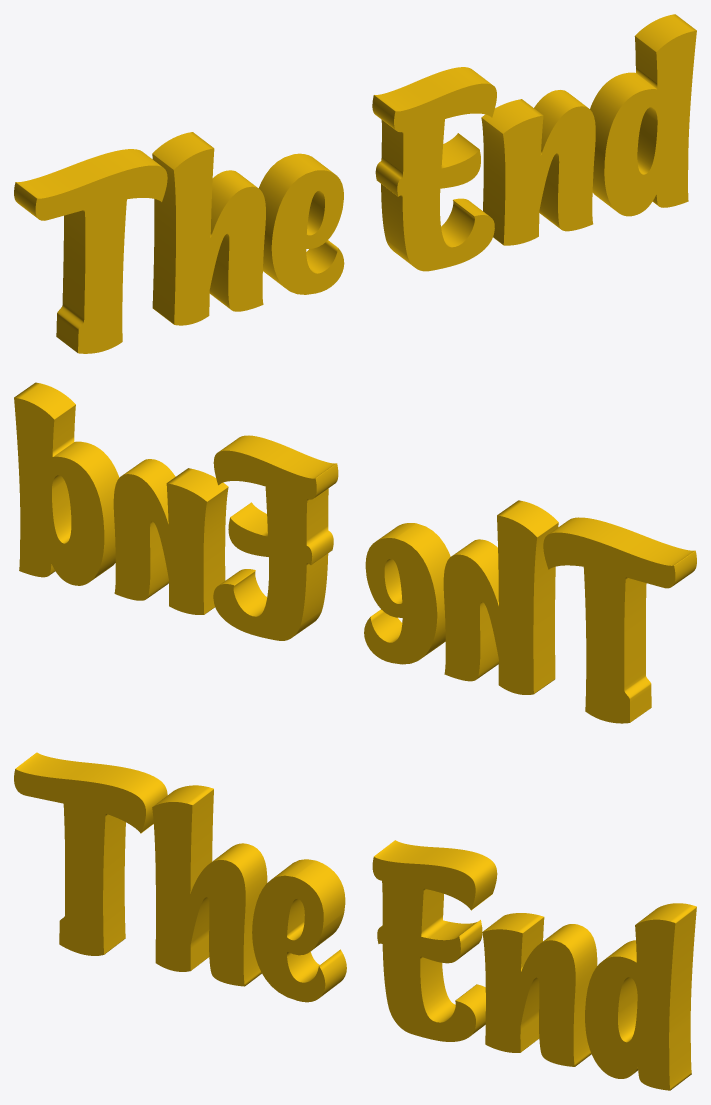
File: theEnd.gltf
The picture shows the model from 3 angles, top to bottom: view 1: azimuth 30°, elevation 25°; view 2: azimuth 150°, elevation 25°; view 3: azimuth 330°, elevation 25°; orthographic projection.
Parts seen in each view (by area): view 1: Text; view 2: Text; view 3: Text.
Boxes of the visible parts, <box> form: Text: <box>14,14,696,353</box>; Text: <box>14,382,696,723</box>; Text: <box>14,752,696,1090</box>.
Bounding box in the file's own units: 2.48 × 0.6392 × 0.1511.
